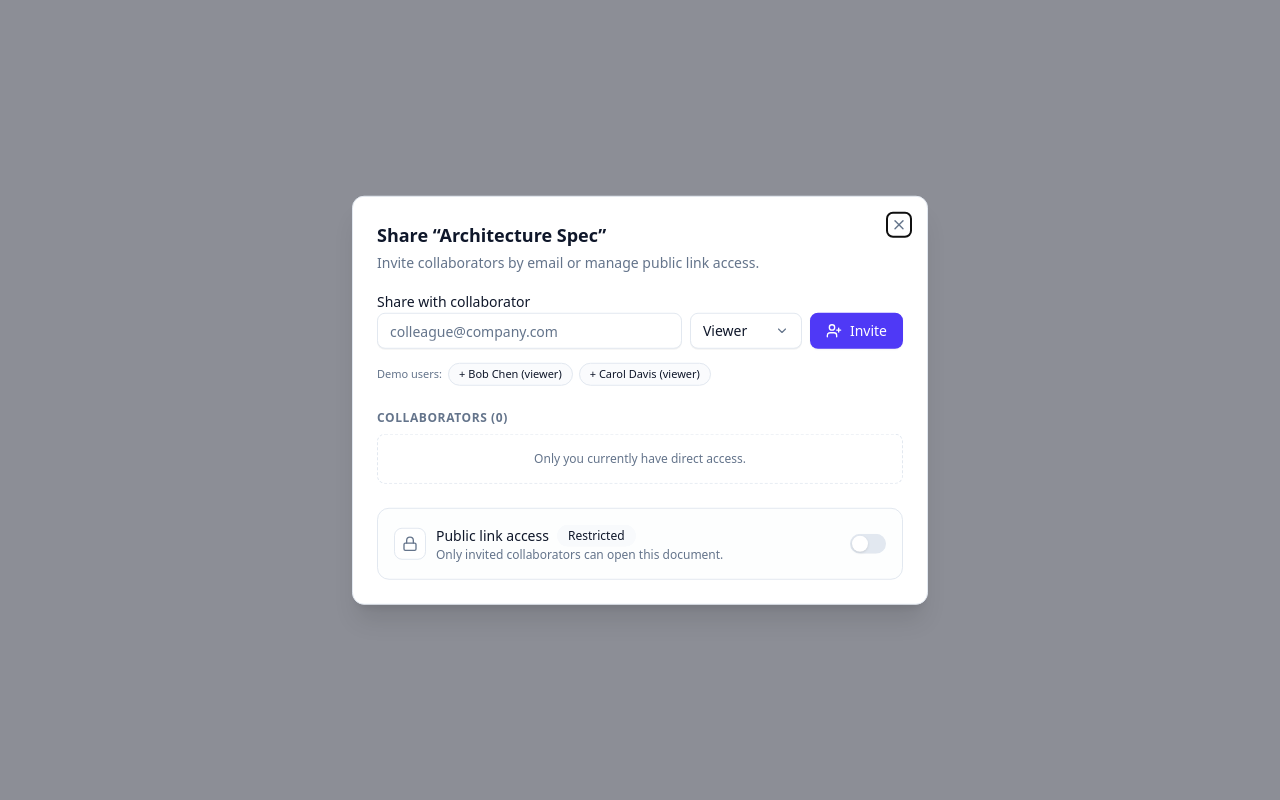
Scenario: ShareDialog frontend sharing workflow › loads collaborators, shares with a demo user, updates permissions, and revokes access
Expected: the text "Collaborators (0)" is shown, [377, 409, 508, 425]
Click the button "+ Bob Chen (viewer)" at (510, 374), box [448, 363, 573, 385]
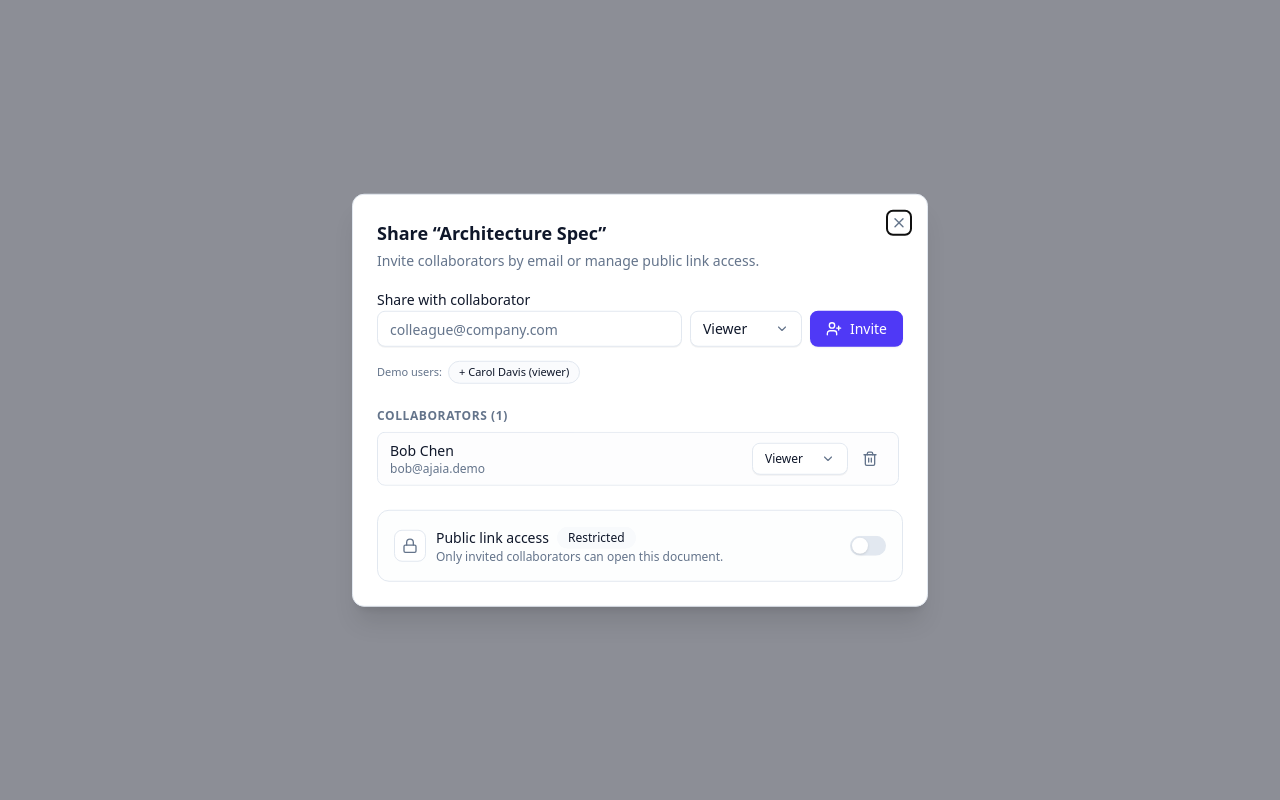
Expected: the text "Bob Chen" is shown, [390, 440, 454, 459]
Now the text "Collaborators (1)" is shown, box [377, 407, 508, 423]
// Update Bob's permission via role selector
Click the dropdown named "Role for bob@ajaia.demo" at (800, 458), box [752, 442, 848, 474]
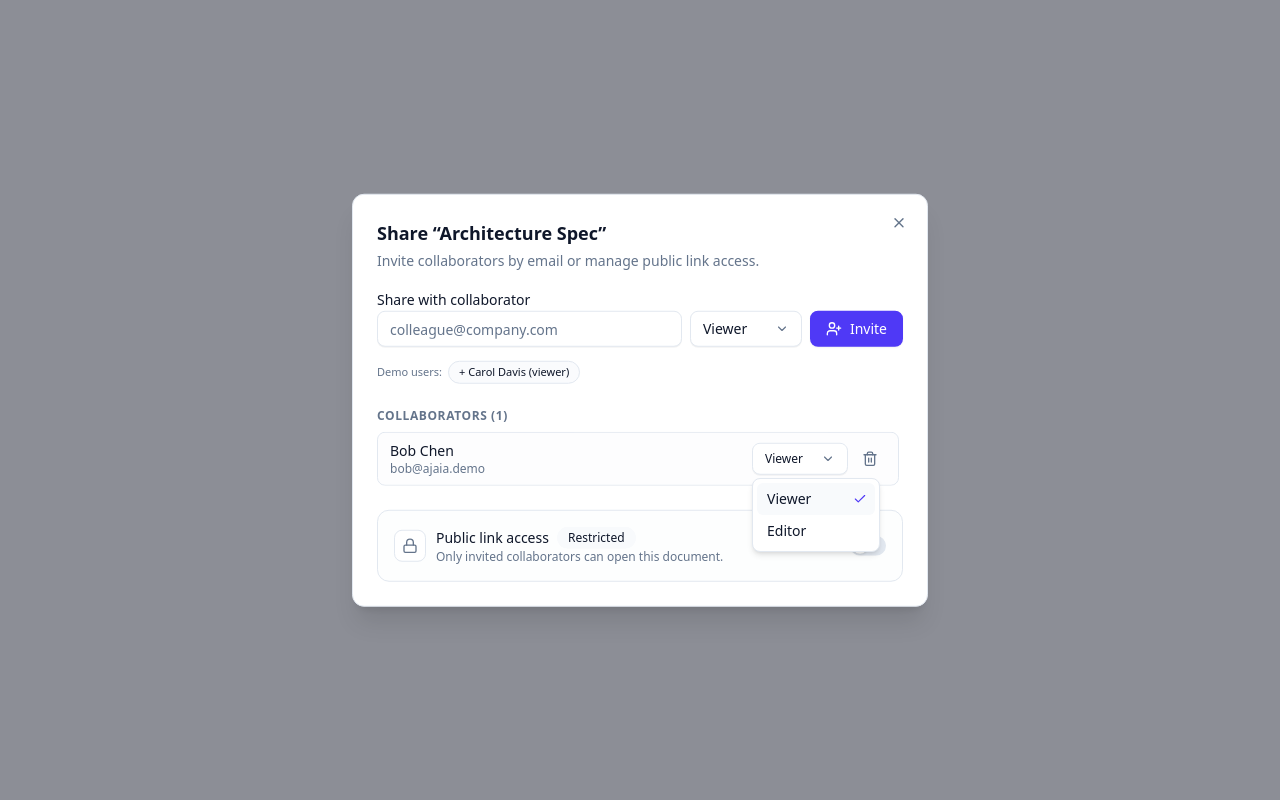
Click the option "Editor" at (787, 530), box [767, 521, 806, 540]
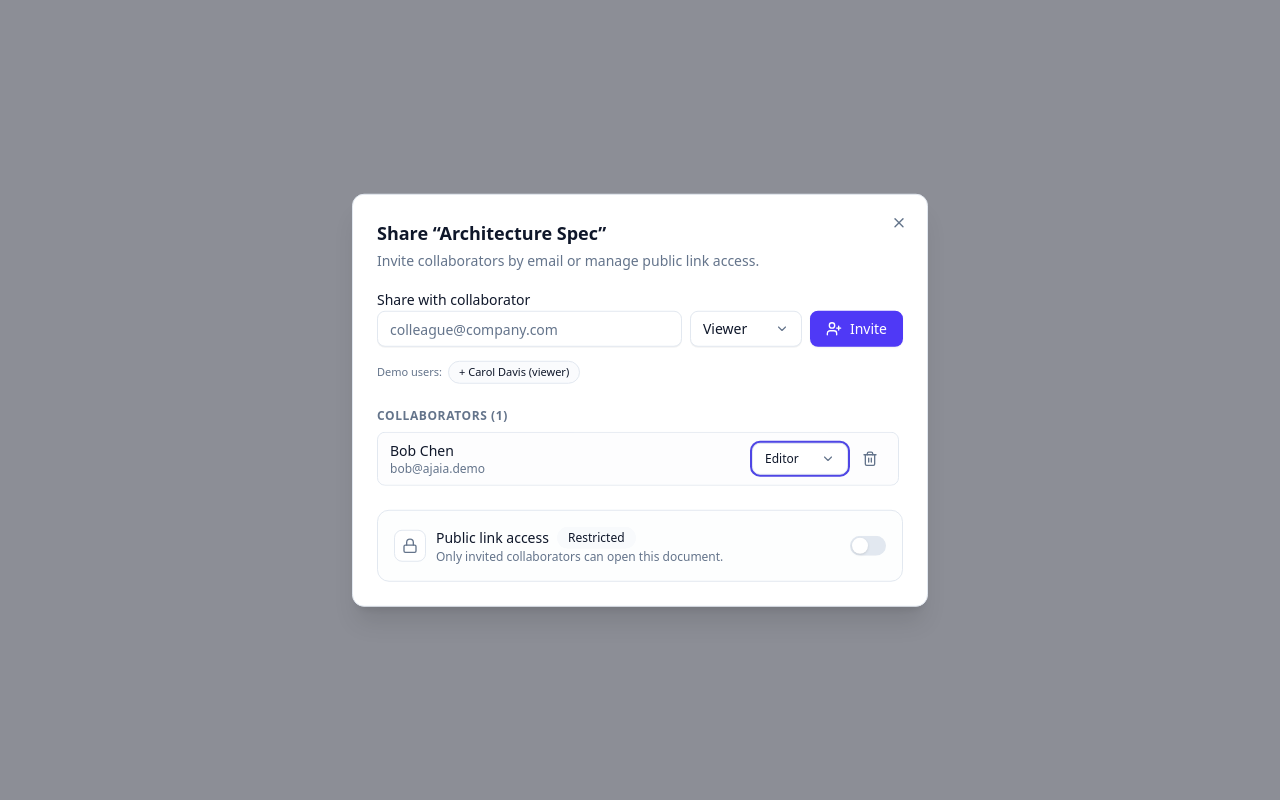
// Revoke Bob's access
Click the button named "Remove bob@ajaia.demo" at (870, 458), box [854, 442, 886, 474]
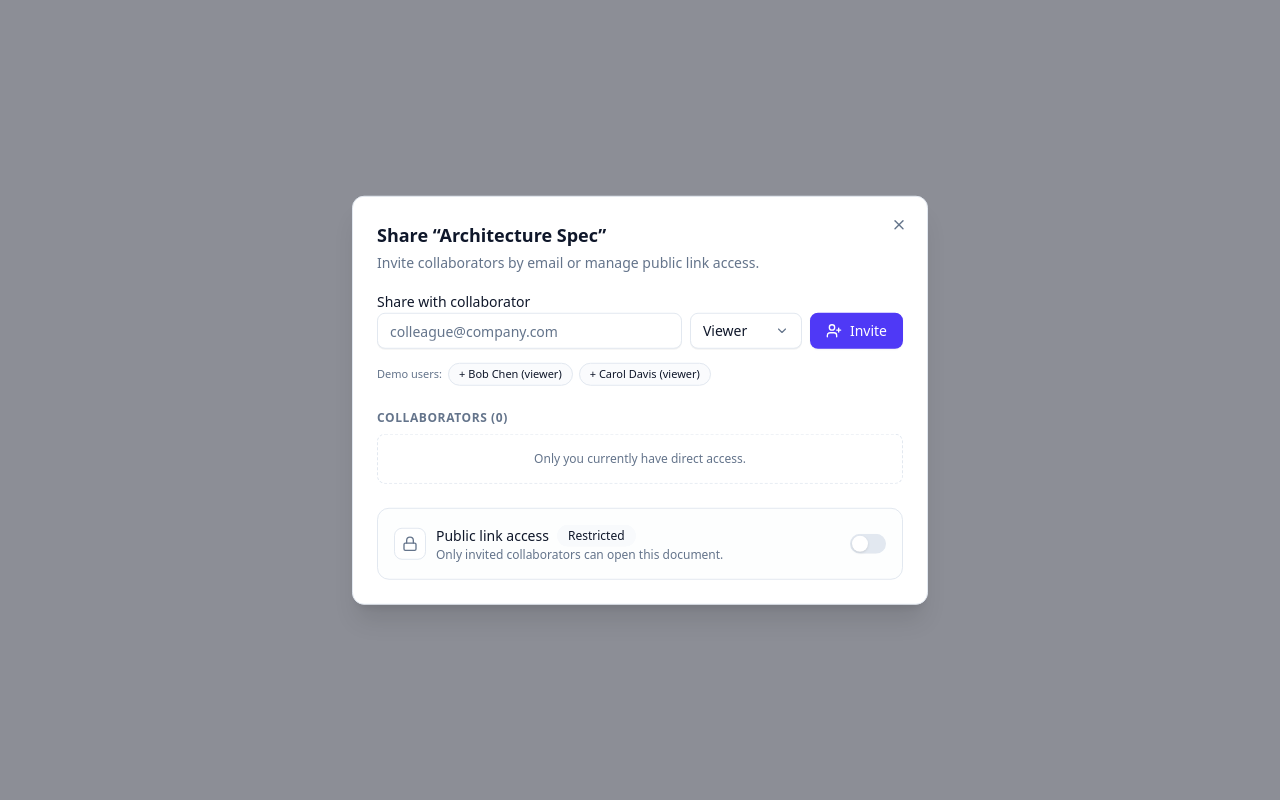
Now the text "Collaborators (0)" is shown, box [377, 409, 508, 425]
